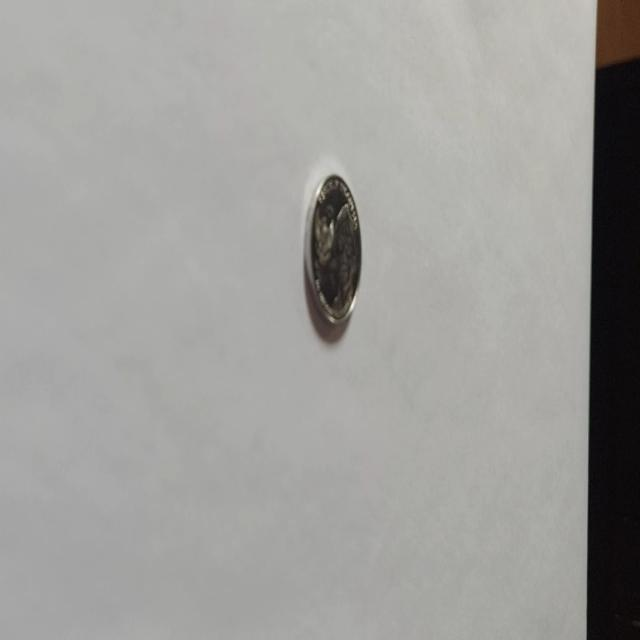dua ratus rupiah: (304, 172, 362, 328)
